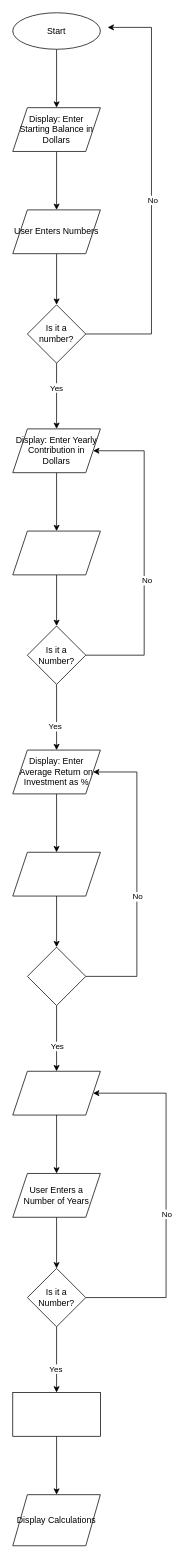
Image size: 185x1559. Some labels were removed from this diagram. The shapes that lost their labels are listed below. From the top down, each one's centre as x and y in pixels, then its label:
(56,552): User Enters in a number
(56,874): User enters a number as a %
(56,976): Is it a %?
(56,1093): Display: Enter Number of Years for the Report
(56,1414): Calculate for the amount years stated
